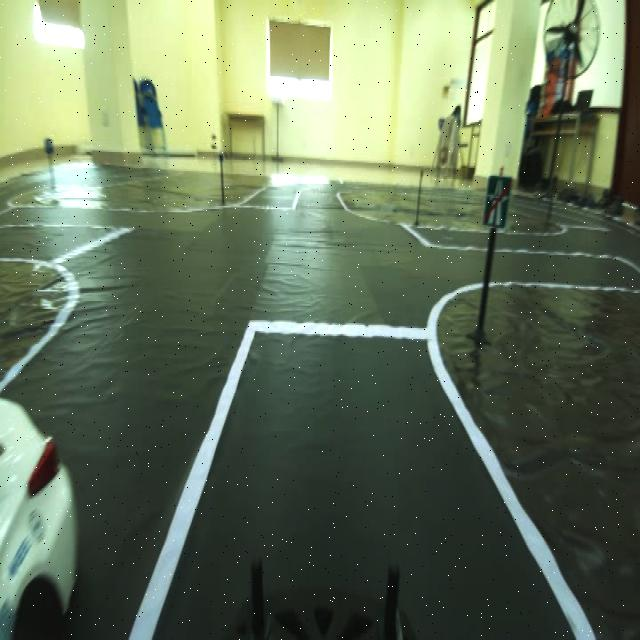highway_exit: (476, 162, 518, 240)
